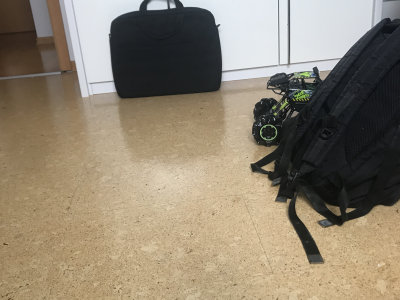remote control car: (249, 66, 337, 147)
